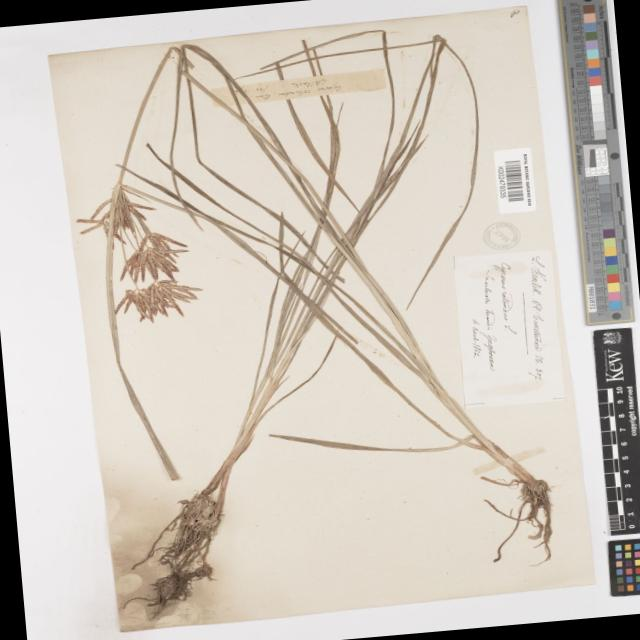cyperus: (65, 171, 221, 336)
